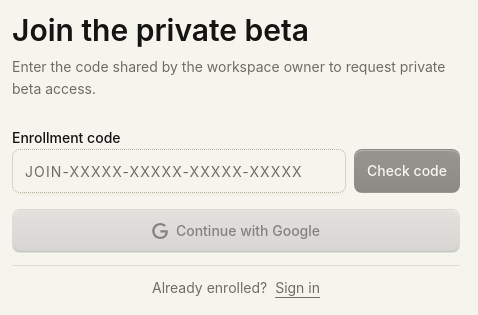
Test: JoinForm › accepts a manually entered shared code and maps rotated codes to safe guidance
Type "join-abcde-fghjk-mnpqr-stuvw" into the field labelled "Enrollment code". click: (179, 171)
box: x1=12 y1=149 x2=346 y2=193
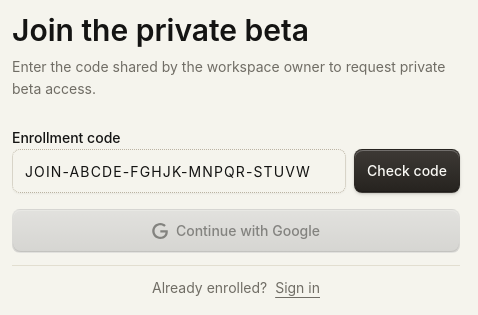
Click the button "Check code". click: (407, 171)
box: x1=354 y1=149 x2=460 y2=193
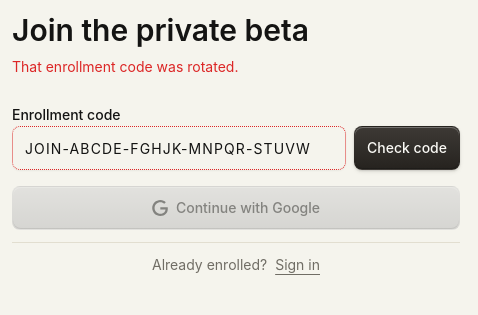
Expected: the message shows "rotated", x1=12 y1=58 x2=238 y2=74
